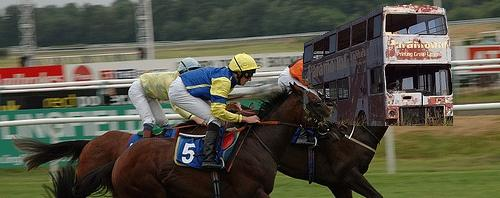tampered: (303, 5, 453, 126)
